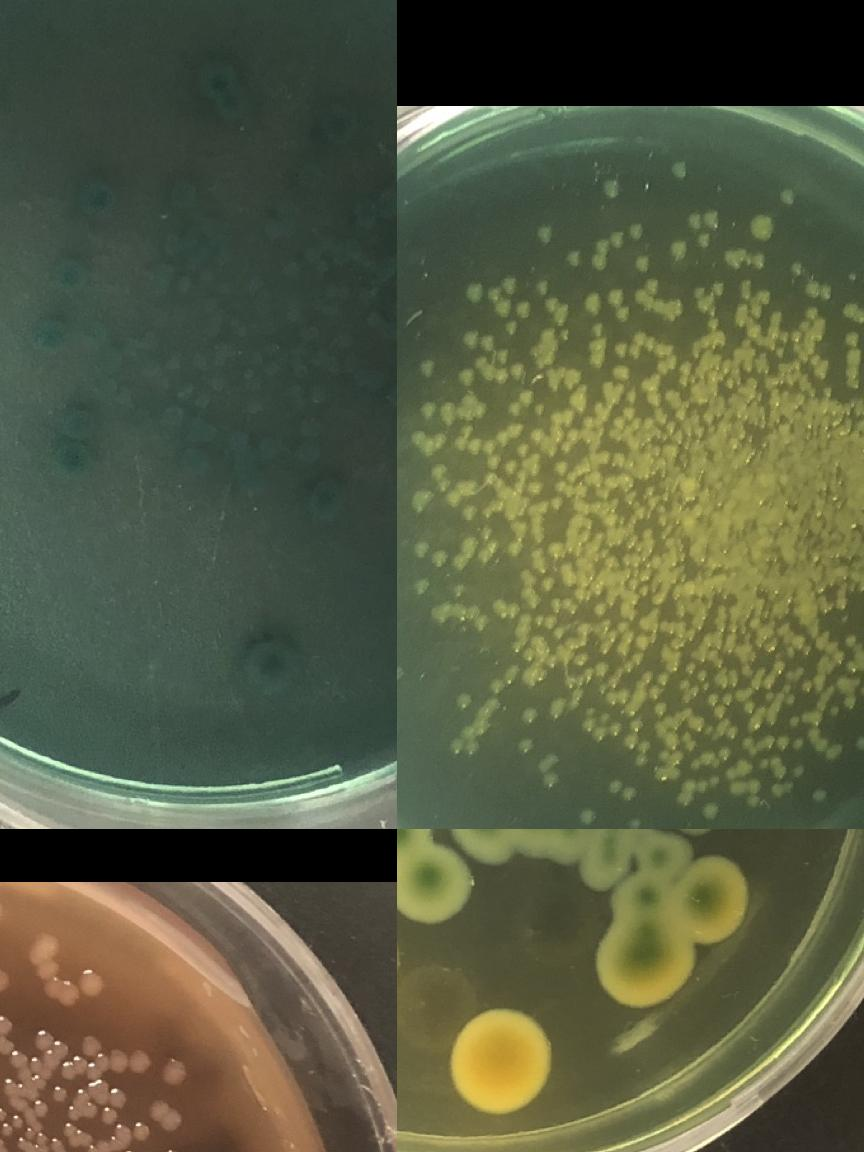pddamselae: (203, 66, 245, 119), (254, 649, 294, 689), (34, 322, 66, 352), (56, 444, 88, 474), (67, 407, 98, 437), (178, 447, 208, 477), (307, 482, 338, 511), (55, 260, 84, 290), (84, 184, 113, 214), (167, 181, 196, 211), (326, 111, 354, 141), (376, 188, 397, 218), (294, 444, 318, 468), (298, 414, 322, 438), (298, 167, 322, 191), (386, 383, 397, 413), (385, 298, 397, 322)
valgino: (444, 1006, 554, 1114), (675, 859, 747, 944)
vangil: (723, 761, 760, 810), (578, 706, 622, 742), (676, 774, 722, 806), (453, 423, 494, 454), (621, 733, 652, 769), (616, 332, 656, 359), (652, 750, 684, 780), (476, 528, 500, 562), (606, 778, 638, 802), (610, 406, 642, 430), (638, 373, 662, 405), (410, 431, 446, 452), (506, 389, 532, 418), (706, 692, 734, 718), (787, 709, 823, 729), (536, 756, 558, 788), (749, 214, 773, 240), (684, 660, 710, 683), (688, 716, 716, 737), (688, 750, 712, 773), (482, 456, 500, 486), (495, 424, 521, 443), (768, 780, 795, 798), (760, 734, 790, 750), (560, 428, 578, 454), (491, 599, 518, 616), (676, 678, 692, 706), (480, 366, 507, 382), (548, 596, 574, 611), (756, 756, 782, 770), (578, 809, 596, 825), (642, 278, 660, 294), (417, 359, 434, 375), (446, 738, 463, 754), (455, 691, 472, 707), (539, 576, 556, 592), (603, 182, 620, 198), (607, 289, 624, 305), (614, 306, 631, 322), (632, 256, 649, 272), (671, 160, 688, 176), (685, 213, 702, 229), (702, 212, 719, 228), (412, 542, 428, 558), (420, 401, 436, 417), (461, 505, 477, 521), (461, 331, 477, 347), (480, 334, 496, 350), (500, 276, 516, 292), (502, 320, 518, 336), (590, 254, 606, 270), (608, 231, 624, 247), (628, 717, 644, 733), (670, 241, 686, 257), (696, 232, 712, 248), (716, 746, 732, 762), (778, 188, 794, 204), (804, 281, 820, 297), (844, 331, 860, 347), (414, 578, 429, 594), (444, 491, 460, 506), (457, 370, 472, 386), (467, 283, 482, 299), (488, 679, 504, 694), (517, 738, 532, 754), (521, 708, 536, 724), (566, 251, 582, 266), (584, 295, 600, 310), (812, 788, 827, 804), (844, 302, 859, 318), (515, 302, 530, 317), (553, 459, 568, 474), (432, 550, 446, 566), (486, 286, 500, 302), (536, 228, 552, 242), (702, 804, 718, 818), (496, 302, 510, 317), (624, 817, 641, 829), (503, 459, 517, 473), (510, 364, 524, 378), (522, 648, 536, 662), (528, 481, 542, 495), (529, 427, 543, 441), (532, 403, 546, 417), (535, 280, 549, 294), (543, 296, 557, 310), (546, 542, 560, 556), (548, 411, 562, 425), (549, 495, 563, 509), (557, 328, 571, 342), (589, 353, 603, 367), (614, 642, 628, 656), (614, 366, 628, 380), (614, 619, 628, 633), (628, 553, 642, 567), (628, 224, 642, 238), (638, 617, 652, 631), (639, 670, 653, 684), (646, 687, 660, 701), (650, 592, 664, 606), (656, 671, 670, 685), (692, 285, 706, 299), (704, 650, 718, 664), (712, 281, 726, 295), (724, 724, 738, 738), (741, 736, 755, 750), (768, 310, 782, 324), (784, 692, 798, 706), (790, 765, 804, 779), (792, 737, 806, 751), (814, 738, 828, 752), (827, 704, 841, 718), (842, 695, 856, 709), (516, 442, 530, 455), (543, 615, 557, 628), (592, 604, 606, 617), (593, 662, 607, 675), (634, 635, 648, 648), (652, 703, 666, 716), (663, 734, 677, 747), (741, 702, 755, 715), (791, 635, 805, 648), (799, 680, 813, 693), (853, 736, 864, 752), (461, 540, 475, 552), (496, 350, 510, 362), (507, 542, 521, 554), (590, 322, 604, 334), (624, 390, 638, 402), (612, 453, 624, 466), (844, 634, 856, 647), (857, 684, 864, 697), (397, 666, 402, 682)
vharveyi: (101, 1048, 152, 1076), (146, 1099, 182, 1132), (36, 957, 63, 1000), (98, 1087, 126, 1124), (76, 968, 104, 996), (159, 1058, 186, 1086), (0, 965, 12, 1011), (48, 1085, 68, 1103)
